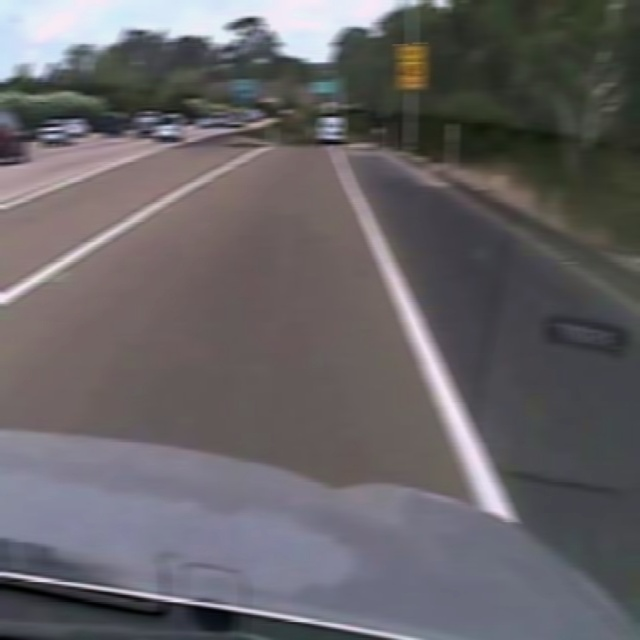rampSpeedAdvisory45: (397, 42, 424, 88)
